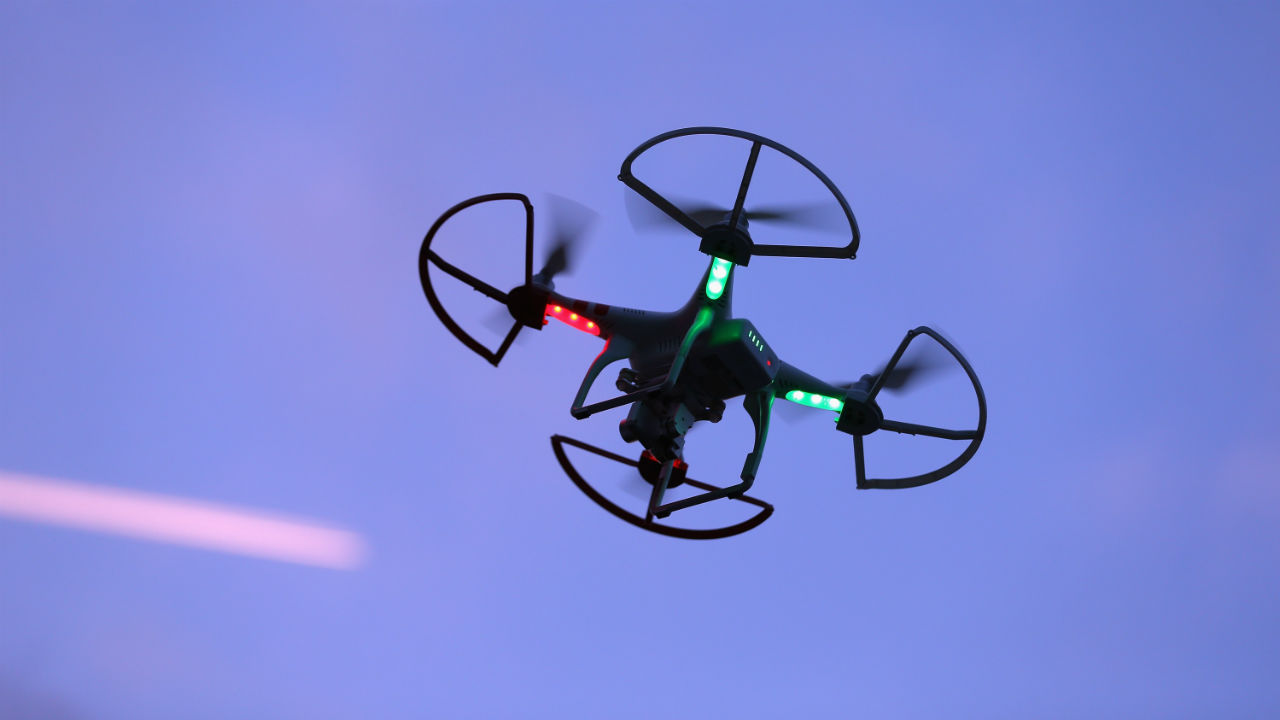drone: (415, 121, 994, 546)
